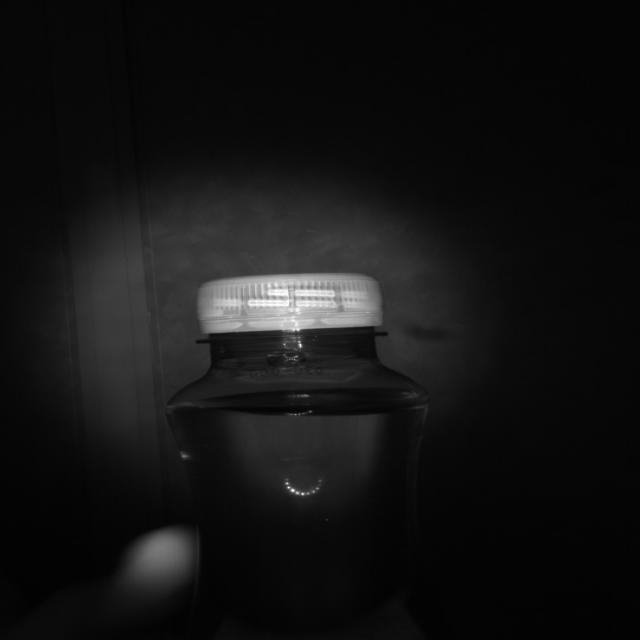Good: (192, 269, 386, 338)
